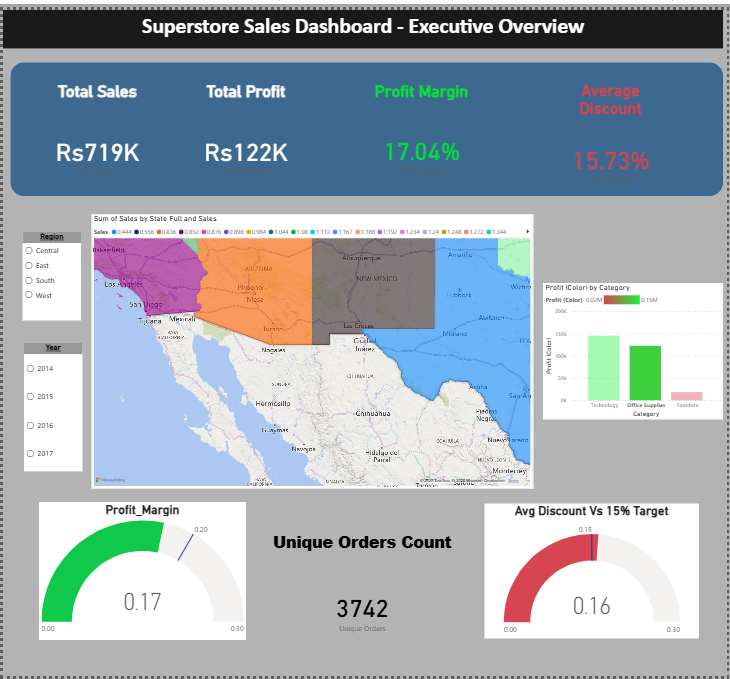

The page's visual inventory and layout, read from the dashboard file:
{"tool":"powerbi","page":{"name":"Page 1","canvas":[1610,1480],"ordinal":0},"visuals":[{"type":"shape","box":[16.7,116.7,1583.3,296.7],"z":0},{"type":"card","title":"Total Sales","fields":{"Values":["Sum(SuperstoreCleaned.Sales)"]},"box":[70,160,280,280],"z":1000},{"type":"card","title":"Total Profit","fields":{"Values":["Sum(SuperstoreCleaned.Profit)"]},"box":[400,160,280,280],"z":2000},{"type":"card","title":"Profit Margin","fields":{"Values":["SuperstoreCleaned.Profit_Margin"]},"box":[790,160,280,275],"z":3000},{"type":"card","title":"Average Discount","fields":{"Values":["SuperstoreCleaned.Avg Discount"]},"box":[1210,155,280,280],"z":4000},{"type":"card","title":"Unique Orders Count","fields":{"Values":["SuperstoreCleaned.Unique Orders"]},"box":[576.7,1156.7,443.3,306.7],"z":5000},{"type":"textbox","box":[0,0,1600,85],"z":6000},{"type":"gauge","fields":{"Y":["SuperstoreCleaned.Profit_Margin"]},"box":[80,1093.3,460,306.7],"z":7000},{"type":"gauge","title":"Avg Discount Vs 15% Target","fields":{"Y":["SuperstoreCleaned.Avg Discount"]},"box":[1070,1096.7,476.7,300],"z":8000},{"type":"filledMap","title":"Sales Breakdown By State ","fields":{"Category":["SuperstoreCleaned.State Full"],"Series":["SuperstoreCleaned.Sales"]},"box":[196.7,453.3,980,610],"z":9000},{"type":"listSlicer","fields":{"Values":["SuperstoreCleaned.Region"]},"box":[43.3,493.3,130,196.7],"z":10000},{"type":"listSlicer","title":"Year","fields":{"Values":["SuperstoreCleaned.Order_Year"]},"box":[45,740,130,285],"z":11000},{"type":"clusteredColumnChart","title":"Profit By Category","fields":{"Y":["SuperstoreCleaned.Profit (Color)"],"Category":["SuperstoreCleaned.Category"]},"box":[1200,606.7,400,303.3],"z":12000}]}

Visuals, with their boxes in screenshot pixels (x1, y1, x2, y2), scaled from the page's 1610x1480 canvas onto the 730x679 screenshot:
shape: (8, 54, 725, 190)
"Total Sales" card: (32, 73, 159, 202)
"Total Profit" card: (181, 73, 308, 202)
"Profit Margin" card: (358, 73, 485, 200)
"Average Discount" card: (549, 71, 676, 200)
"Unique Orders Count" card: (261, 531, 462, 671)
textbox: (0, 0, 725, 39)
gauge - SuperstoreCleaned.Profit_Margin: (36, 502, 245, 642)
"Avg Discount Vs 15% Target" gauge: (485, 503, 701, 641)
"Sales Breakdown By State " filledMap: (89, 208, 534, 488)
listSlicer - SuperstoreCleaned.Region: (20, 226, 79, 317)
"Year" listSlicer: (20, 340, 79, 470)
"Profit By Category" clusteredColumnChart: (544, 278, 725, 417)
